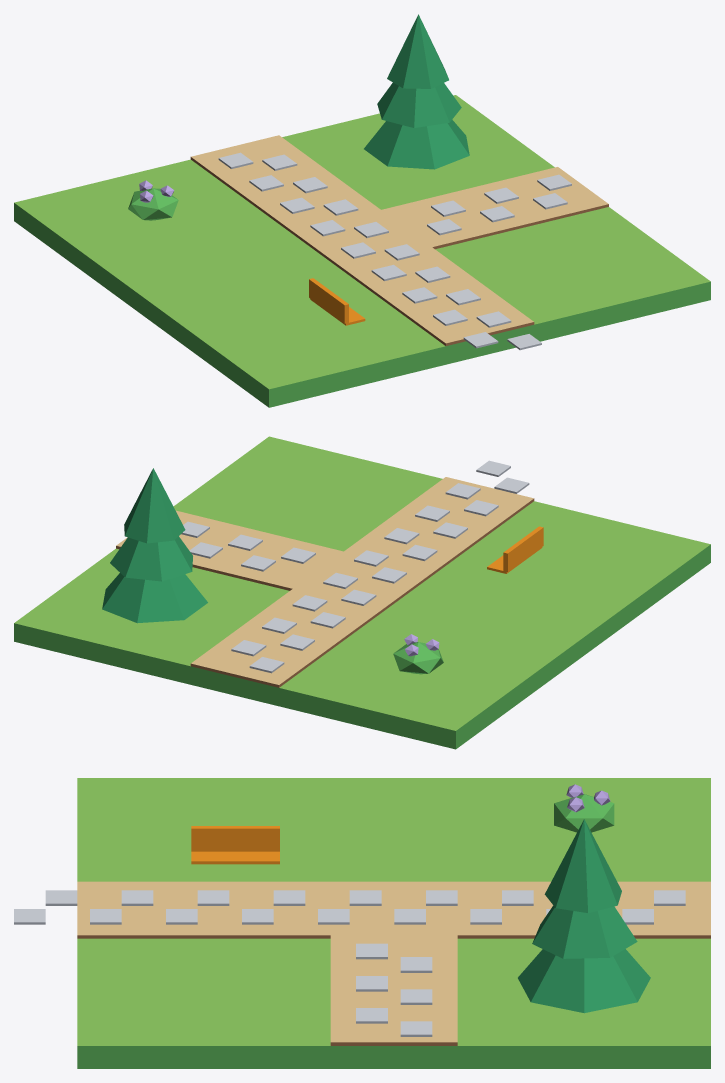
The model's file is path_t.glb.
3 views of the same model, one above another, from view 1: azimuth 30°, elevation 25°; view 2: azimuth 150°, elevation 25°; view 3: azimuth 270°, elevation 25° (orthographic). The views are drawn at different scales.
Visible parts, largest first — view 1: path_t; view 2: path_t; view 3: path_t.
Boxes of the visible parts, x1,y1,x2,y2 form: path_t: [14, 14, 710, 407]; path_t: [14, 436, 710, 749]; path_t: [14, 778, 710, 1068].
Size of the model in its own units: 1 by 0.342 by 1.1.
